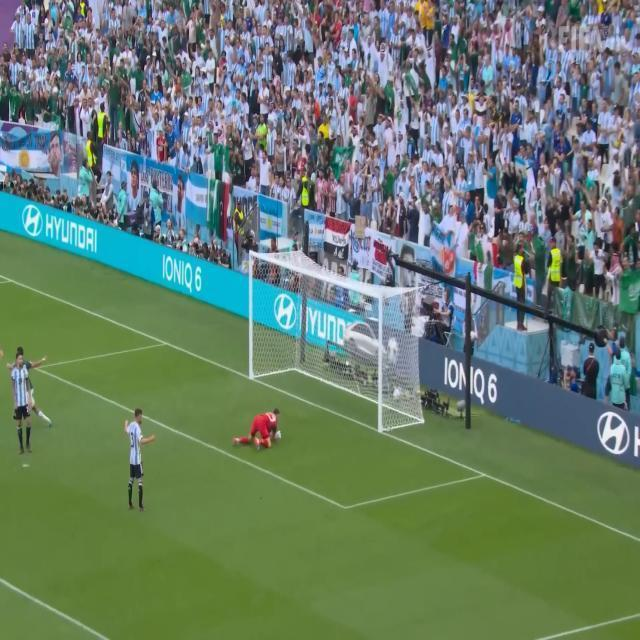player: (122, 403, 159, 516), (10, 350, 37, 460), (227, 409, 287, 449)
